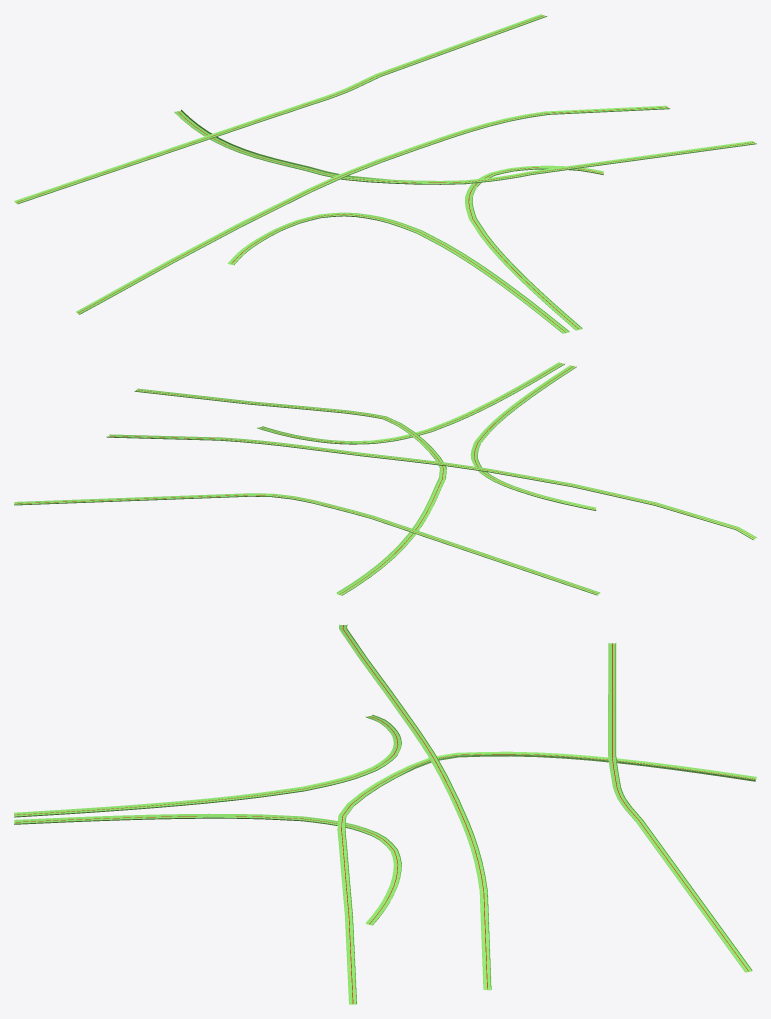
File: SM_Roads_Merged.fbx
The picture shows the model from 3 angles, top to bottom: view 1: azimuth 30°, elevation 25°; view 2: azimuth 150°, elevation 25°; view 3: azimuth 270°, elevation 25°; orthographic projection. The views are drawn at different scales.
Visible parts, largest first — view 1: SM_Roads_Merged; view 2: SM_Roads_Merged; view 3: SM_Roads_Merged.
Part boxes in pixels (x1=…): SM_Roads_Merged: x1=14, y1=14, x2=756, y2=333; SM_Roads_Merged: x1=14, y1=362, x2=756, y2=595; SM_Roads_Merged: x1=14, y1=624, x2=756, y2=1004.
Size of the model in its own units: 121923 by 6889 by 100461.
